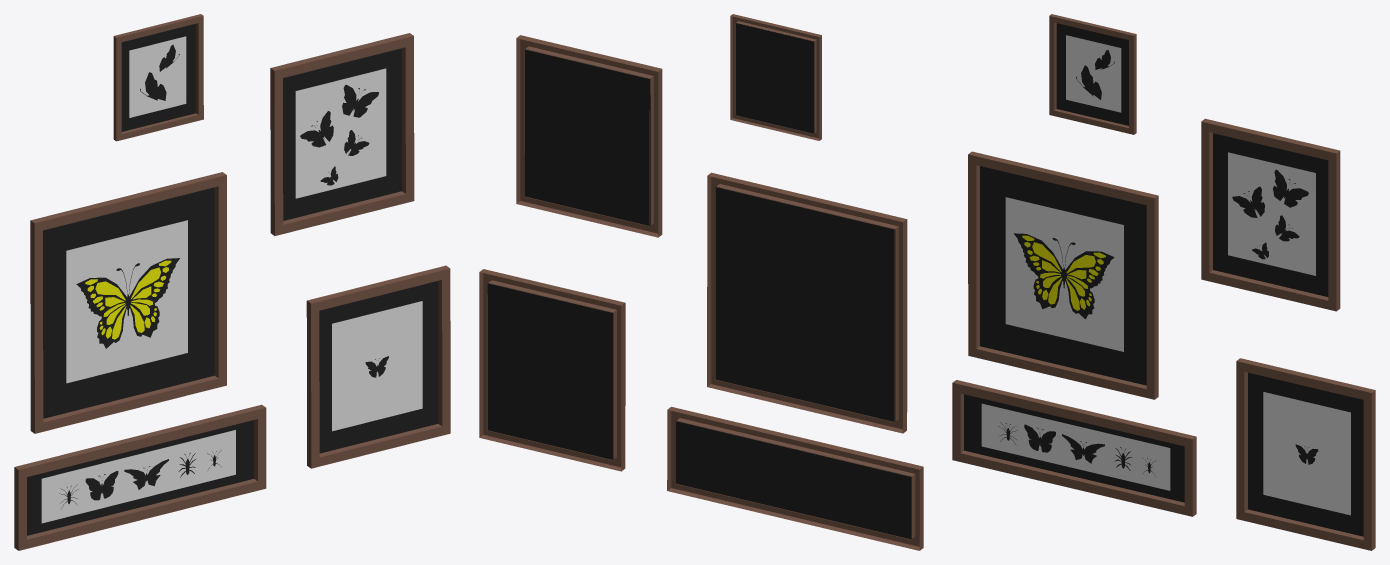
File: Scenery3.fbx
3 views of the same model, side by side, from view 1: azimuth 30°, elevation 25°; view 2: azimuth 150°, elevation 25°; view 3: azimuth 330°, elevation 25° (orthographic). The views are drawn at different scales.
Parts seen in each view (by area): view 1: Scenery3; view 2: Scenery3; view 3: Scenery3.
Part boxes in pixels (x1,y1,x2,y2): Scenery3: (14,14,450,550); Scenery3: (479,14,923,550); Scenery3: (952,14,1375,550).
Size of the model in its own units: 67.56 by 72.32 by 2.01.
